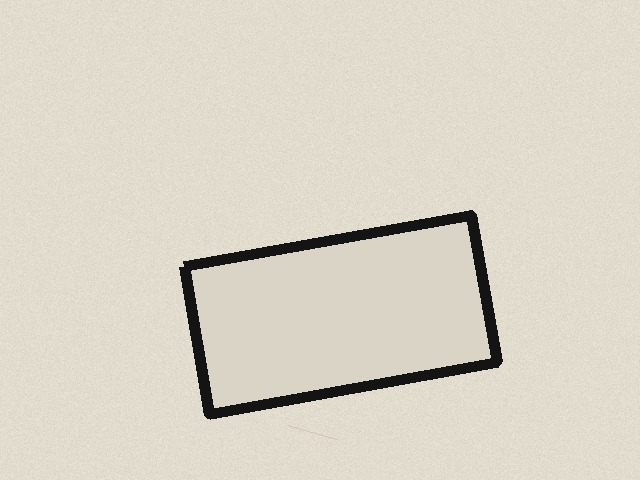parking_area: (184, 215, 497, 414)
